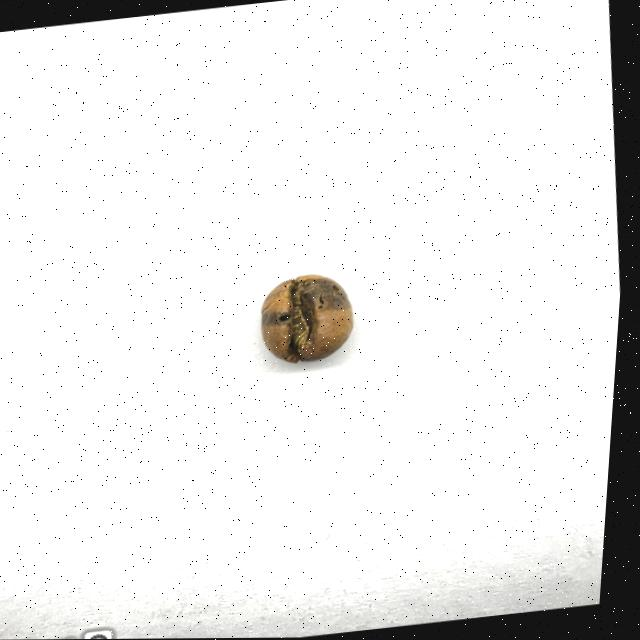Insect damage: (262, 269, 361, 368)
